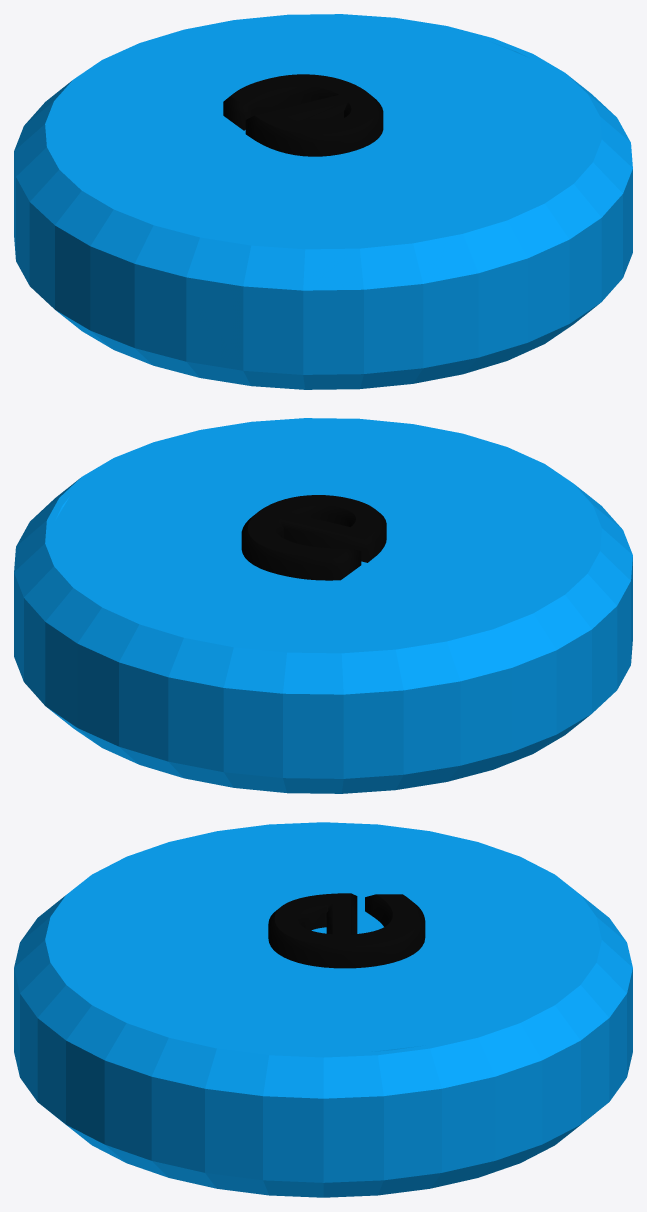
The model's file is Euler.fbx.
3 views of the same model, one above another, from view 1: azimuth 30°, elevation 25°; view 2: azimuth 150°, elevation 25°; view 3: azimuth 270°, elevation 25° (orthographic).
Parts seen in each view (by area): view 1: Ficha, Letra; view 2: Ficha, Letra; view 3: Ficha, Letra.
Boxes of the visible parts, left/top/right/bottom form: Ficha: left=14, top=14, right=632, bottom=389; Letra: left=223, top=74, right=383, bottom=156; Ficha: left=14, top=418, right=632, bottom=793; Letra: left=241, top=495, right=386, bottom=580; Ficha: left=14, top=822, right=632, bottom=1197; Letra: left=268, top=893, right=425, bottom=968.
Bounding box in the file's own units: 80 × 22.8 × 80.
